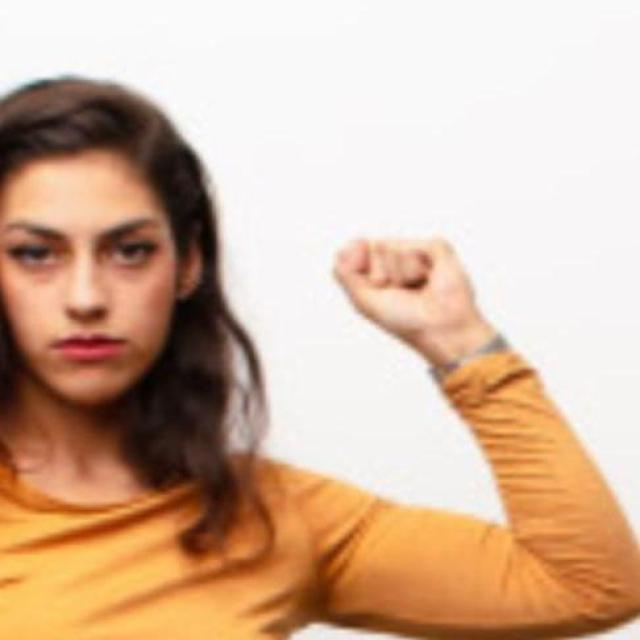hand: (330, 232, 498, 368)
